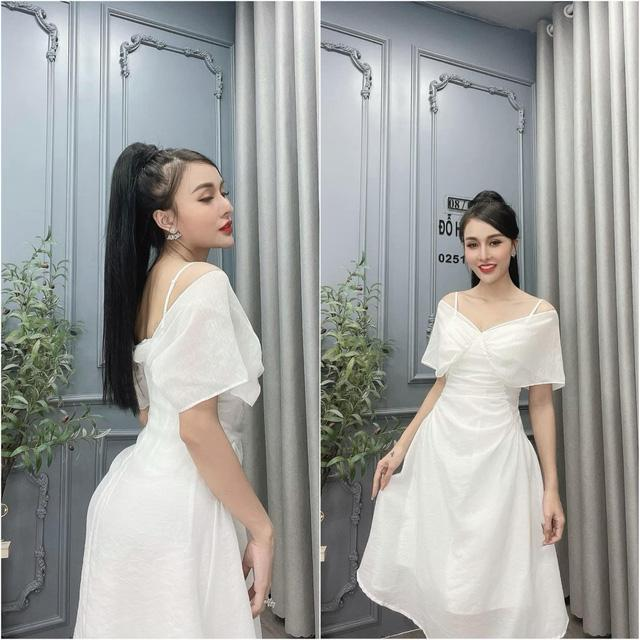clothes: (77, 256, 276, 640), (403, 285, 565, 640)
